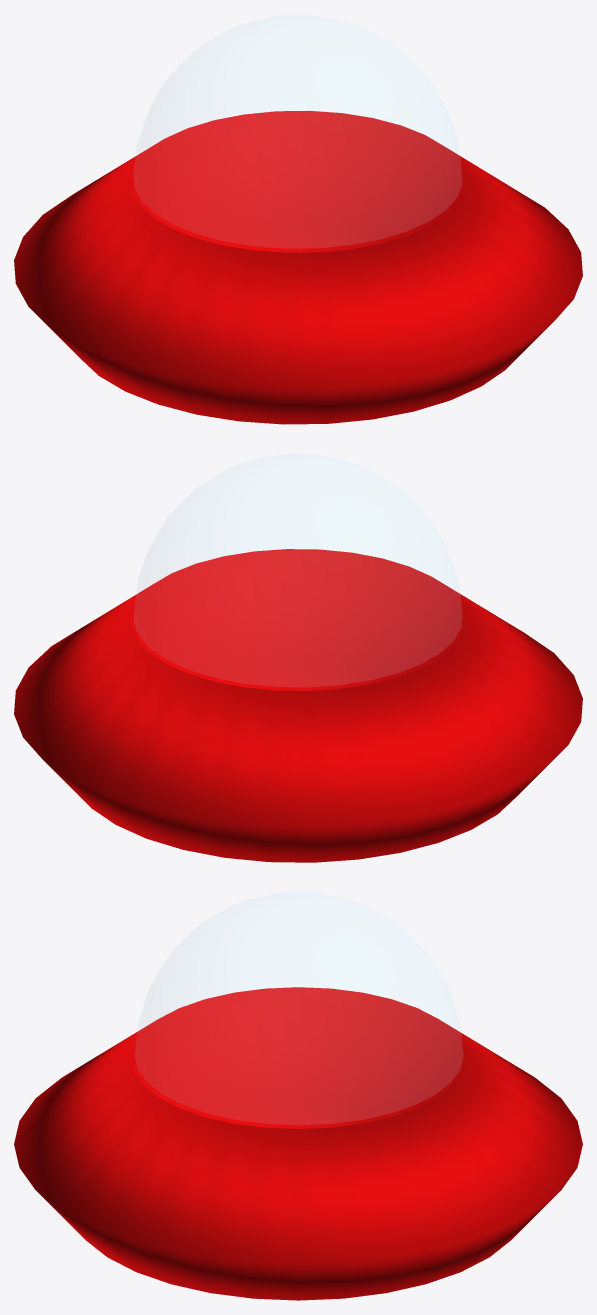
File: ufo.glb
3 views of the same model, one above another, from view 1: azimuth 30°, elevation 25°; view 2: azimuth 150°, elevation 25°; view 3: azimuth 270°, elevation 25° (orthographic).
Visible parts, largest first — view 1: Cylinder, Sphere; view 2: Cylinder, Sphere; view 3: Cylinder, Sphere.
Boxes of the visible parts, left/top/right/bottom form: Cylinder: left=14, top=110, right=582, bottom=424; Sphere: left=134, top=15, right=461, bottom=247; Cylinder: left=14, top=549, right=582, bottom=862; Sphere: left=134, top=454, right=461, bottom=686; Cylinder: left=14, top=987, right=582, bottom=1300; Sphere: left=135, top=892, right=462, bottom=1124.
Bounding box in the file's own units: 5.19 × 2.99 × 5.19.
2 materials, 1 textured.
